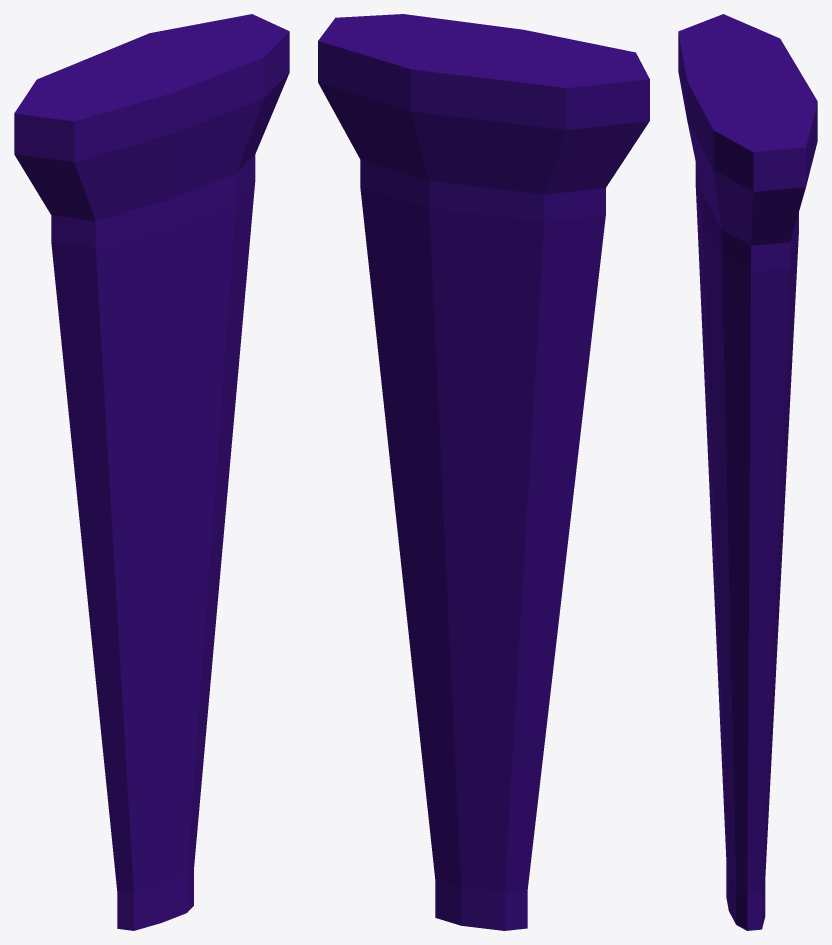
The model's file is Jeju.obj.
3 views of the same model, side by side, from view 1: azimuth 30°, elevation 25°; view 2: azimuth 150°, elevation 25°; view 3: azimuth 270°, elevation 25° (orthographic). The views are drawn at different scales.
Visible parts, largest first — view 1: Jeju; view 2: Jeju; view 3: Jeju.
Part boxes in pixels (box(x1,y1,x2,y2)): Jeju: box(14, 14, 289, 930); Jeju: box(318, 14, 649, 930); Jeju: box(678, 14, 817, 930).
Bounding box in the file's own units: 18.98 × 52.88 × 8.1.
